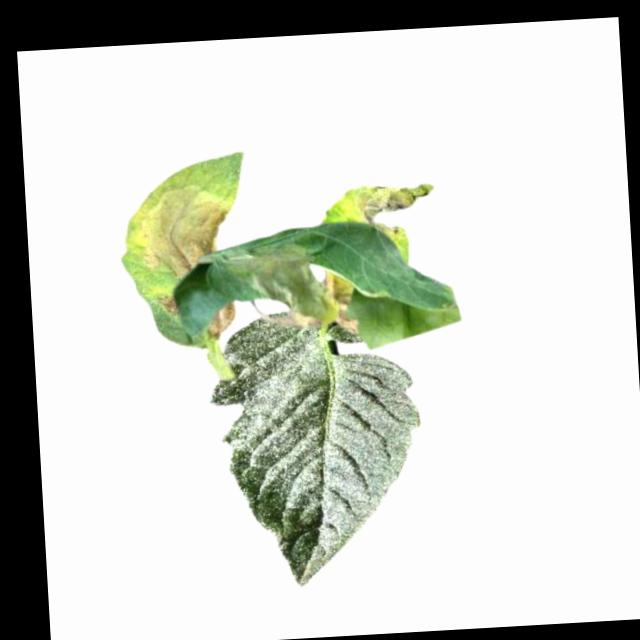Late_blight: (132, 179, 237, 279), (229, 239, 321, 330), (346, 180, 438, 246), (318, 268, 360, 334), (202, 299, 237, 338), (147, 292, 176, 317)
healthy: (204, 307, 428, 594)
